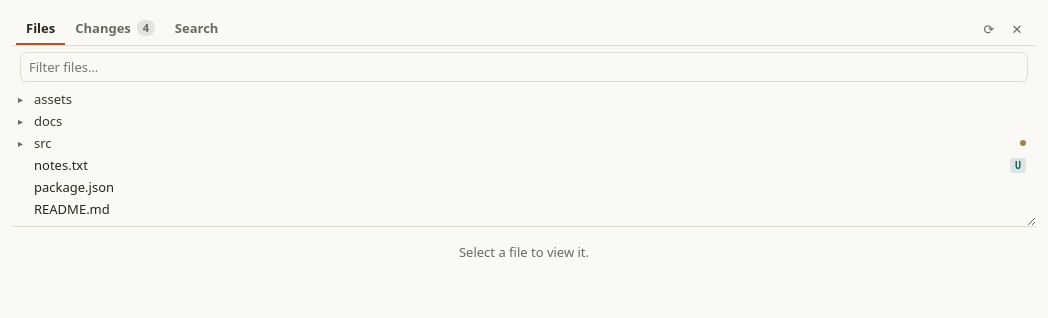
Scenario: SidePanel › lists files as a tree with change badges, and expands directories
Check: the button "README.md" is shown, box [12,198,1036,220]
Check: the button "app.ts" is not shown
Click the button "▸ src" at (21, 143), box [12,132,1036,154]
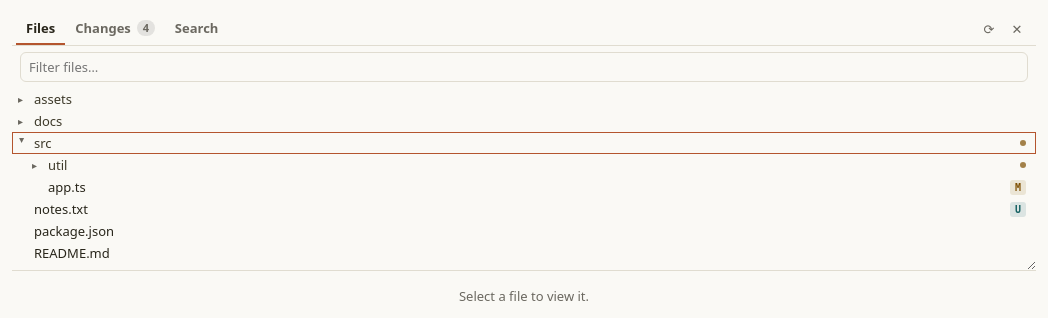
Check: the button "▸ src" is expanded, box [12,132,1036,154]
